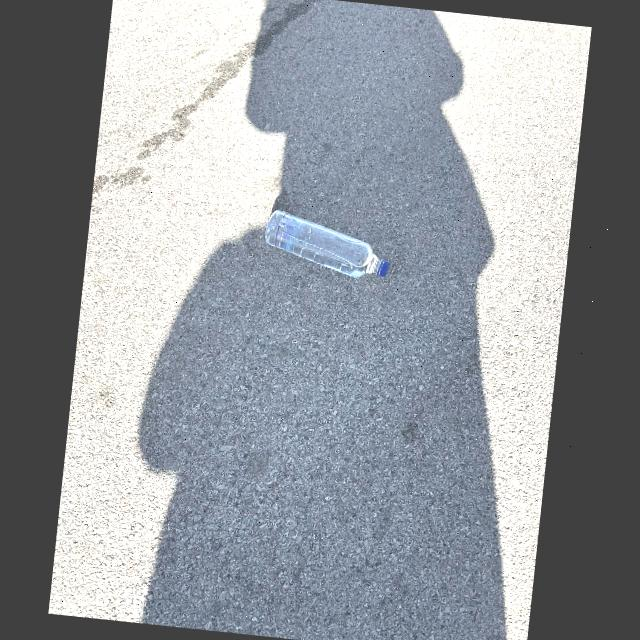trash: (252, 200, 394, 290)
